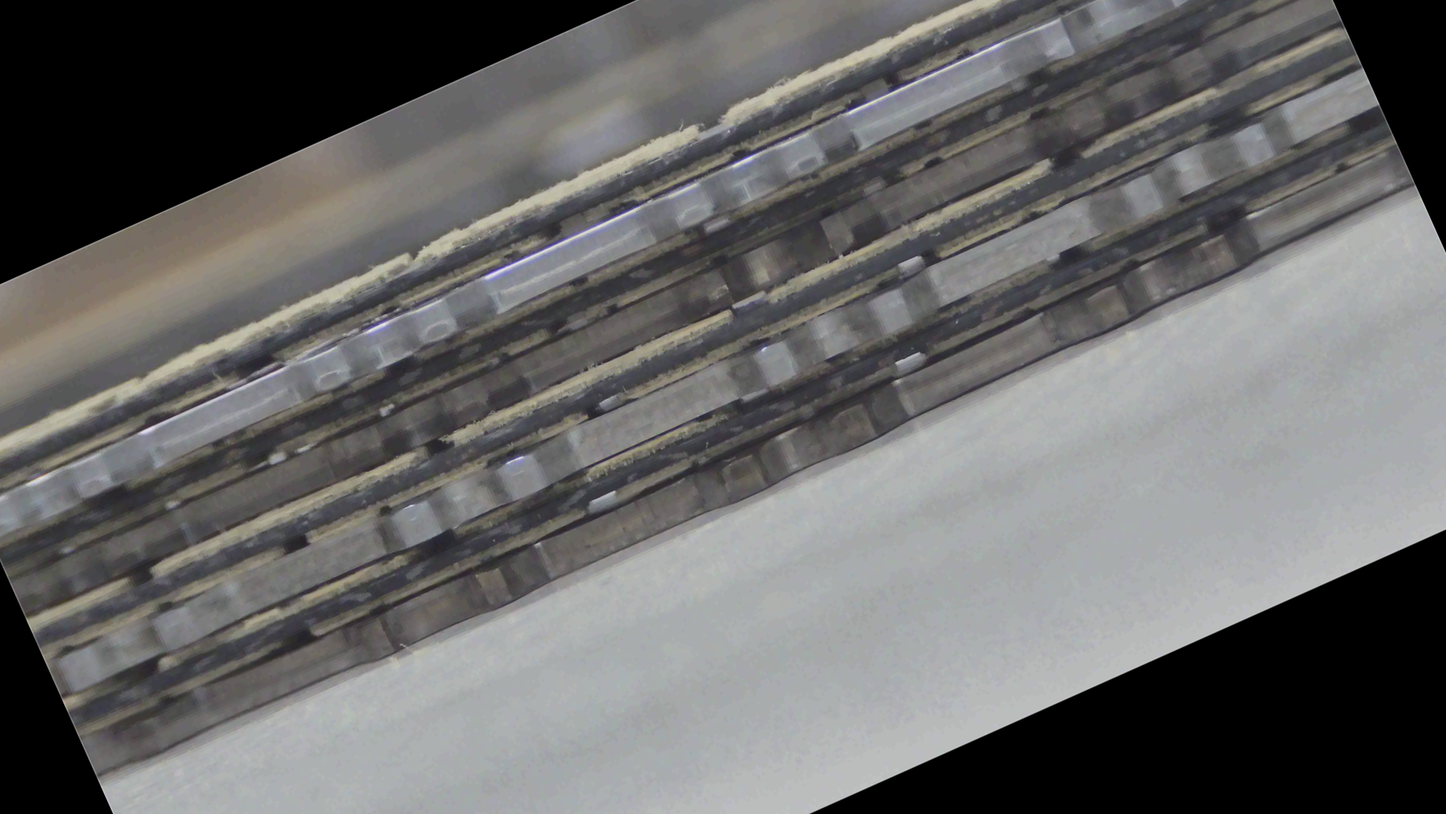Black metal plate: (12, 198, 1446, 379), (0, 442, 1445, 498)
shiney metal plate: (0, 0, 1363, 439), (0, 358, 1445, 411)
spacer: (68, 122, 1392, 726), (81, 0, 1446, 365), (3, 226, 1445, 272), (0, 319, 1445, 357)
